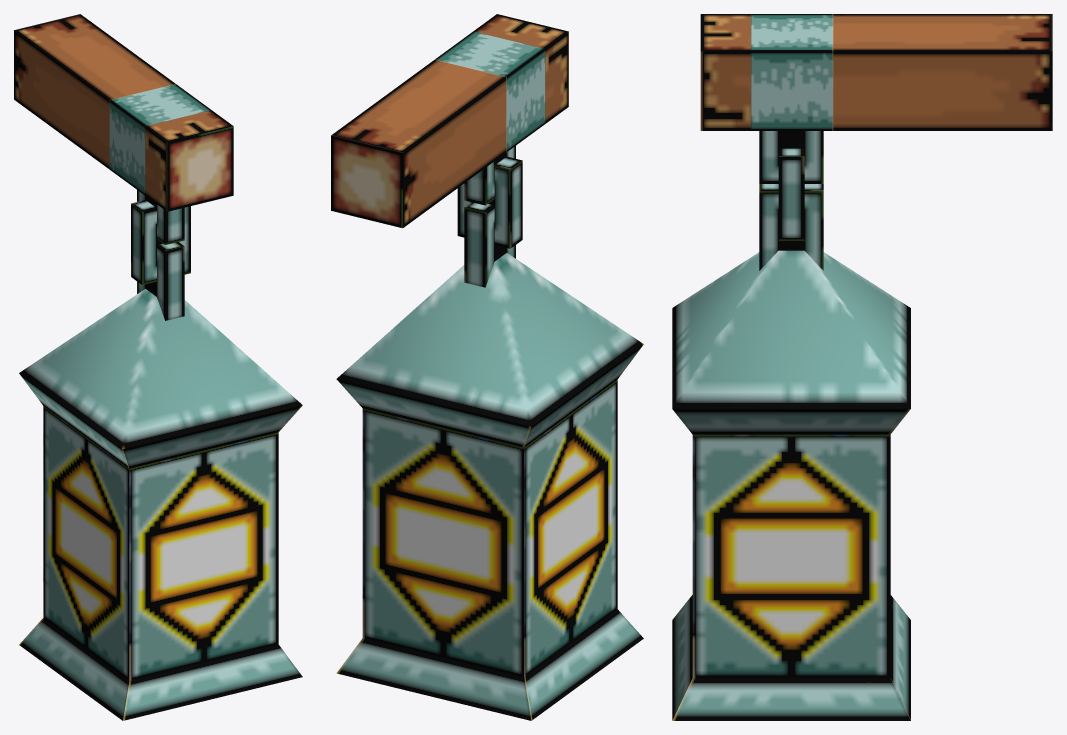
File: deco_lampLarge.FBX
The picture shows the model from 3 angles, left to right: view 1: azimuth 30°, elevation 25°; view 2: azimuth 150°, elevation 25°; view 3: azimuth 270°, elevation 25°; orthographic projection. The views are drawn at different scales.
Parts seen in each view (by area): view 1: deco_lampLarge; view 2: deco_lampLarge; view 3: deco_lampLarge.
Part boxes in pixels (bbox=[...]): deco_lampLarge: bbox=[14, 14, 302, 720]; deco_lampLarge: bbox=[331, 14, 643, 720]; deco_lampLarge: bbox=[672, 14, 1052, 720].
Bounding box in the file's own units: 0.5 × 1.47 × 0.7971.
Materials: 1 (1 with a texture image).
